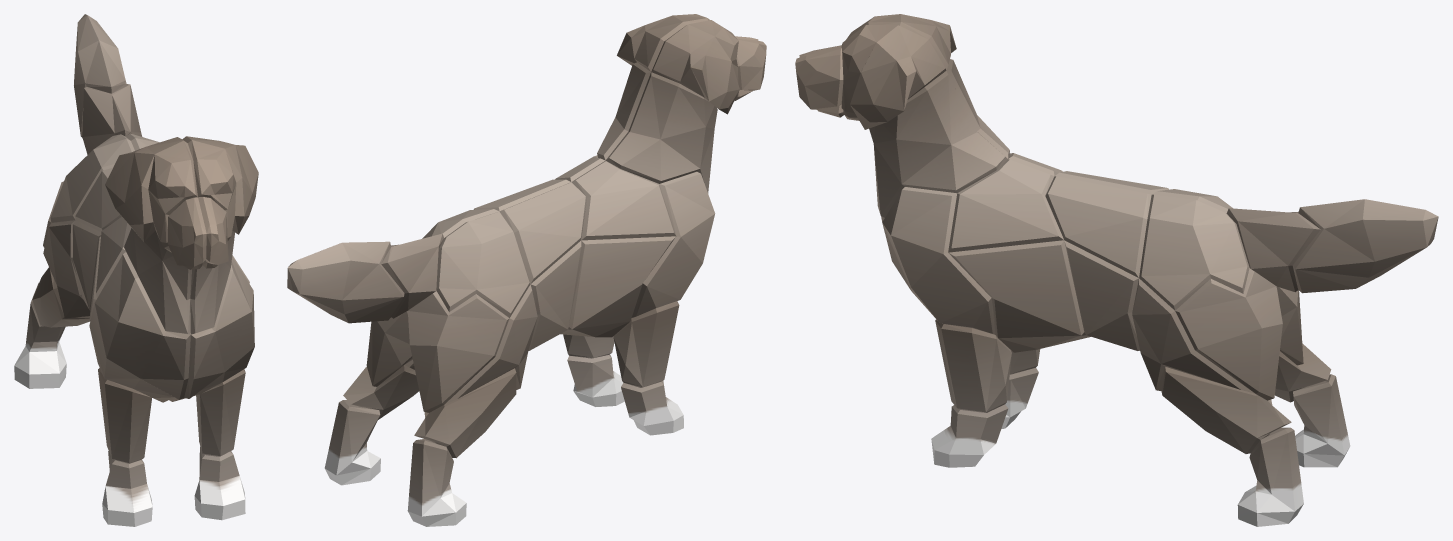
Rendered from level_175.fbx.
3 views of the same model, side by side, from view 1: azimuth 30°, elevation 25°; view 2: azimuth 150°, elevation 25°; view 3: azimuth 270°, elevation 25° (orthographic). The views are drawn at different scales.
Parts seen in each view (by area): view 1: Cube_L2_11.001, Cube_L1_4.004, Cube_L2_8.003, Cube_L1.004, Cube_L1_2.004, Cube_L4_10, Cube_L3.002, Cube_L4_7, Cube_L4_8, Cube_L4_11, Cube_L3_1.002, Cube_L4_9 (+9 smaller); view 2: Cube_L1_2.004, Cube_L4_4.001, Cube_L2_9.003, Cube_L3.002, Cube_L2_3.003, Cube_L2_11.001, Cube_L2_10.001, Cube_L1_4.004, Cube_L2_7.003, Cube_L4_6.001, Cube_L4_10, Cube_L4_8 (+14 smaller); view 3: Cube_L1_1.004, Cube_L2_4.003, Cube_L3.002, Cube_L2_8.003, Cube_L2.004, Cube_L4_2.001, Cube_L1.004, Cube_L2_5.003, Cube_L2_2.004, Cube_L4_1.002, Cube_L4_7, Cube_L2_1.004 (+12 smaller).
Boxes of the visible parts, box(x1,y1,x2,y2) form: Cube_L2_11.001: box(89, 252, 190, 402); Cube_L1_4.004: box(105, 137, 197, 252); Cube_L2_8.003: box(169, 257, 254, 401); Cube_L1.004: box(182, 136, 258, 241); Cube_L1_2.004: box(124, 228, 191, 334); Cube_L4_10: box(98, 368, 151, 463); Cube_L3.002: box(74, 14, 126, 137); Cube_L4_7: box(196, 369, 245, 456); Cube_L4_8: box(14, 283, 66, 388); Cube_L4_11: box(102, 451, 152, 526); Cube_L3_1.002: box(82, 84, 142, 154); Cube_L4_9: box(194, 447, 245, 520); Cube_L1_2.004: box(606, 72, 717, 193); Cube_L4_4.001: box(407, 291, 509, 412); Cube_L2_9.003: box(560, 236, 675, 337); Cube_L3.002: box(287, 241, 404, 323); Cube_L2_3.003: box(436, 211, 530, 317); Cube_L2_11.001: box(631, 171, 715, 317); Cube_L2_10.001: box(571, 160, 675, 240); Cube_L1_4.004: box(651, 20, 739, 114); Cube_L2_7.003: box(500, 182, 586, 283); Cube_L4_6.001: box(414, 368, 516, 458); Cube_L4_10: box(613, 301, 679, 387); Cube_L4_8: box(407, 439, 466, 526); Cube_L1_1.004: box(869, 71, 1007, 217); Cube_L2_4.003: box(948, 240, 1090, 352); Cube_L3.002: box(1292, 199, 1438, 293); Cube_L2_8.003: box(881, 187, 995, 334); Cube_L2.004: box(1139, 194, 1249, 310); Cube_L4_2.001: box(1175, 268, 1282, 400); Cube_L1.004: box(841, 25, 946, 129); Cube_L2_5.003: box(948, 159, 1063, 252); Cube_L2_2.004: box(1045, 176, 1151, 277); Cube_L4_1.002: box(1161, 367, 1291, 453); Cube_L4_7: box(935, 319, 1011, 412); Cube_L2_1.004: box(1064, 240, 1139, 350).
Bounding box in the file's own units: 11.48 × 17.25 × 24.84.
